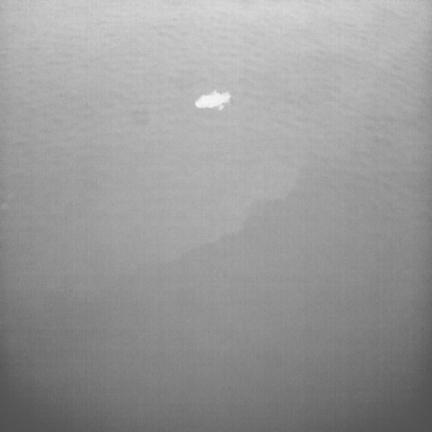flukeprints: (195, 90, 230, 110)
